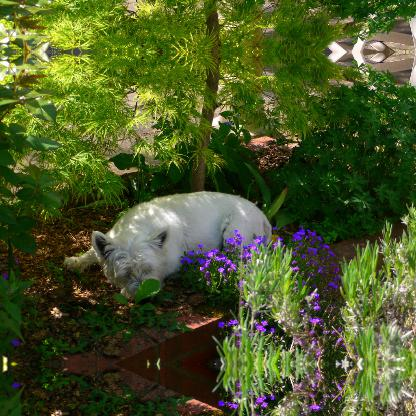Dog: (60, 193, 274, 299)
